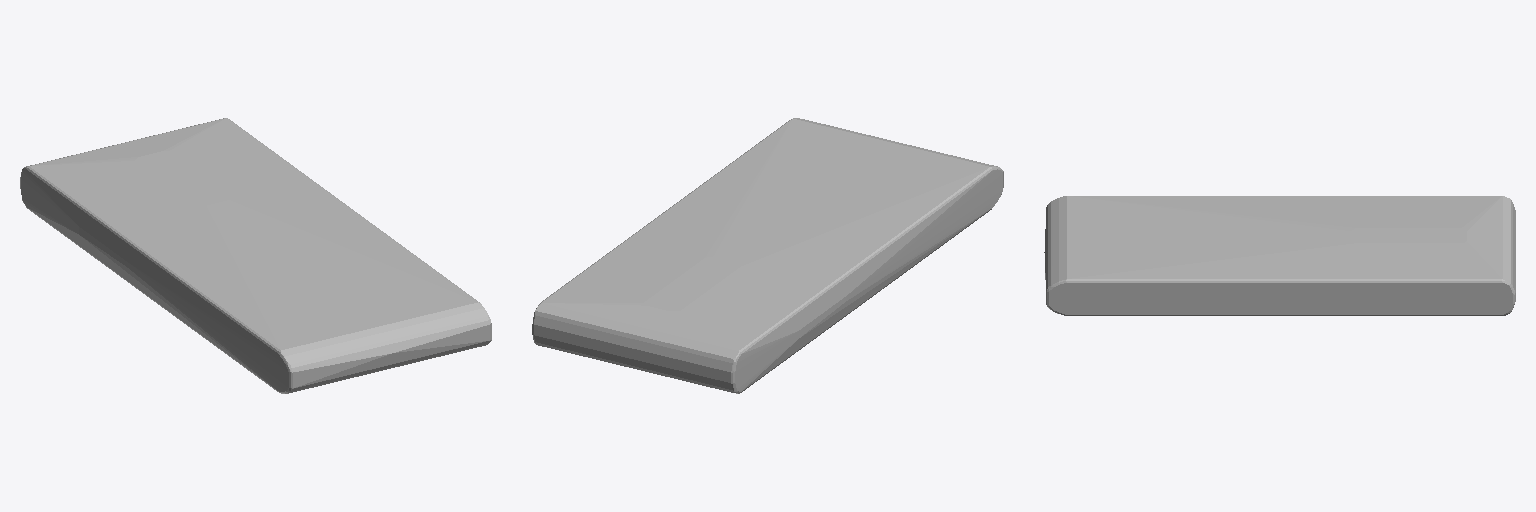
URDF robot description (root):
<robot name="root">
  <link name="link_coacd_convex_piece_0">
    <inertial>
      <origin xyz="0 0 0" rpy="0 0 0"/>
      <inertia ixx="4.65E-02" ixy="2.47E-05" ixz="-2.44E-06" iyy="9.34E-03" iyz="-1.69E-05" izz="5.50E-02"/>
    </inertial>
    <visual>
      <origin xyz="0 0 0" rpy="0 0 0"/>
      <geometry>
        <mesh filename="coacd_convex_piece_0.obj" scale="1.0000E+00 1.0000E+00 1.0000E+00"/>
      </geometry>
      <material name="">
        <color rgba="7.50E-01 7.50E-01 7.50E-01 1"/>
      </material>
    </visual>
    <collision>
      <origin xyz="0 0 0" rpy="0 0 0"/>
      <geometry>
        <mesh filename="coacd_convex_piece_0.obj" scale="1.0000E+00 1.0000E+00 1.0000E+00"/>
      </geometry>
    </collision>
  </link>
</robot>

--- Facts derived from the render (not from the file) ---
The picture shows the robot from 3 angles, left to right: view 1: azimuth 30°, elevation 25°; view 2: azimuth 150°, elevation 25°; view 3: azimuth 270°, elevation 25°; orthographic projection.
Robot: root — 1 links, 0 joints (none); root link link_coacd_convex_piece_0; default pose: all joints at 0.
Links seen in each view (by area): view 1: link_coacd_convex_piece_0; view 2: link_coacd_convex_piece_0; view 3: link_coacd_convex_piece_0.
Link boxes in pixels (x1,y1,x2,y2): link_coacd_convex_piece_0: (20,118,491,393); link_coacd_convex_piece_0: (532,118,1003,393); link_coacd_convex_piece_0: (1044,196,1515,315).
Size in the robot's own frame: 0.7832 by 1.8 by 0.1762 metres.
1 mesh visuals loaded from 1 distinct referenced files (1 OBJ).
